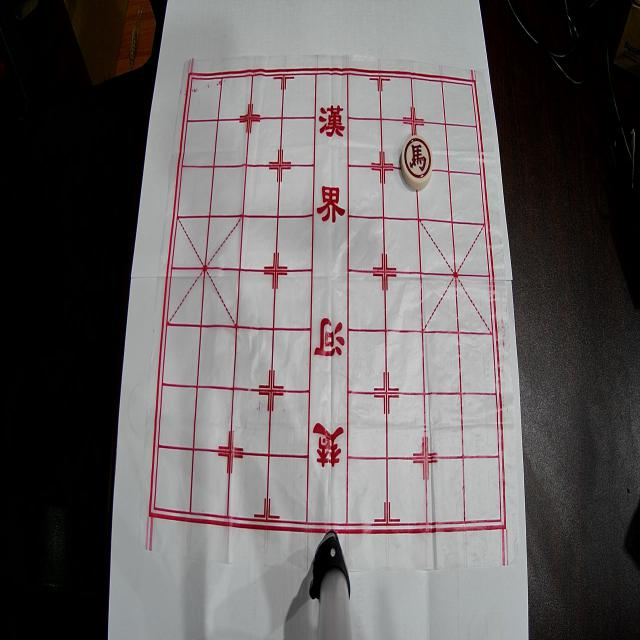red-horse: (401, 135, 433, 190)
